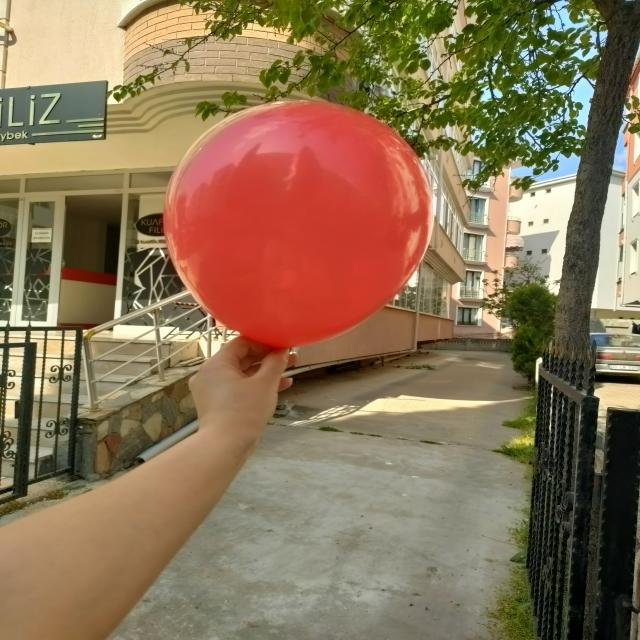red: (170, 101, 428, 351)
